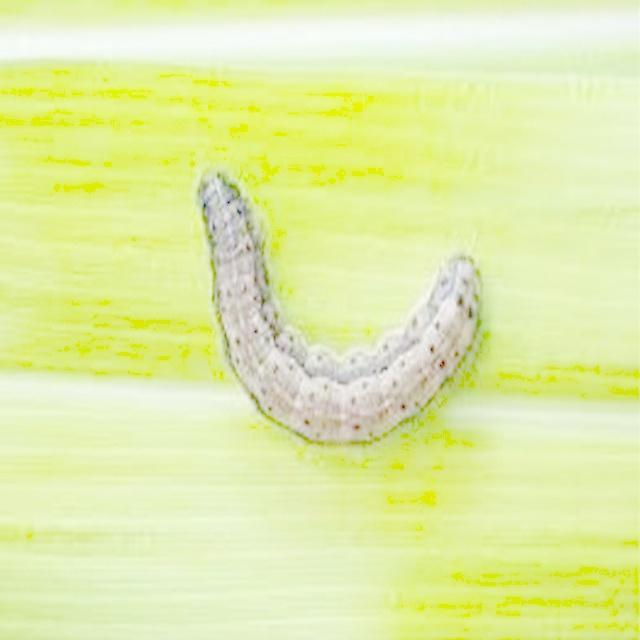worm: (195, 167, 483, 446)
